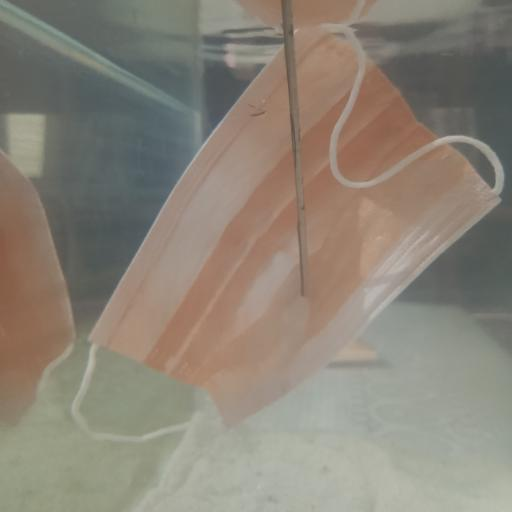mask: (72, 20, 512, 446)
